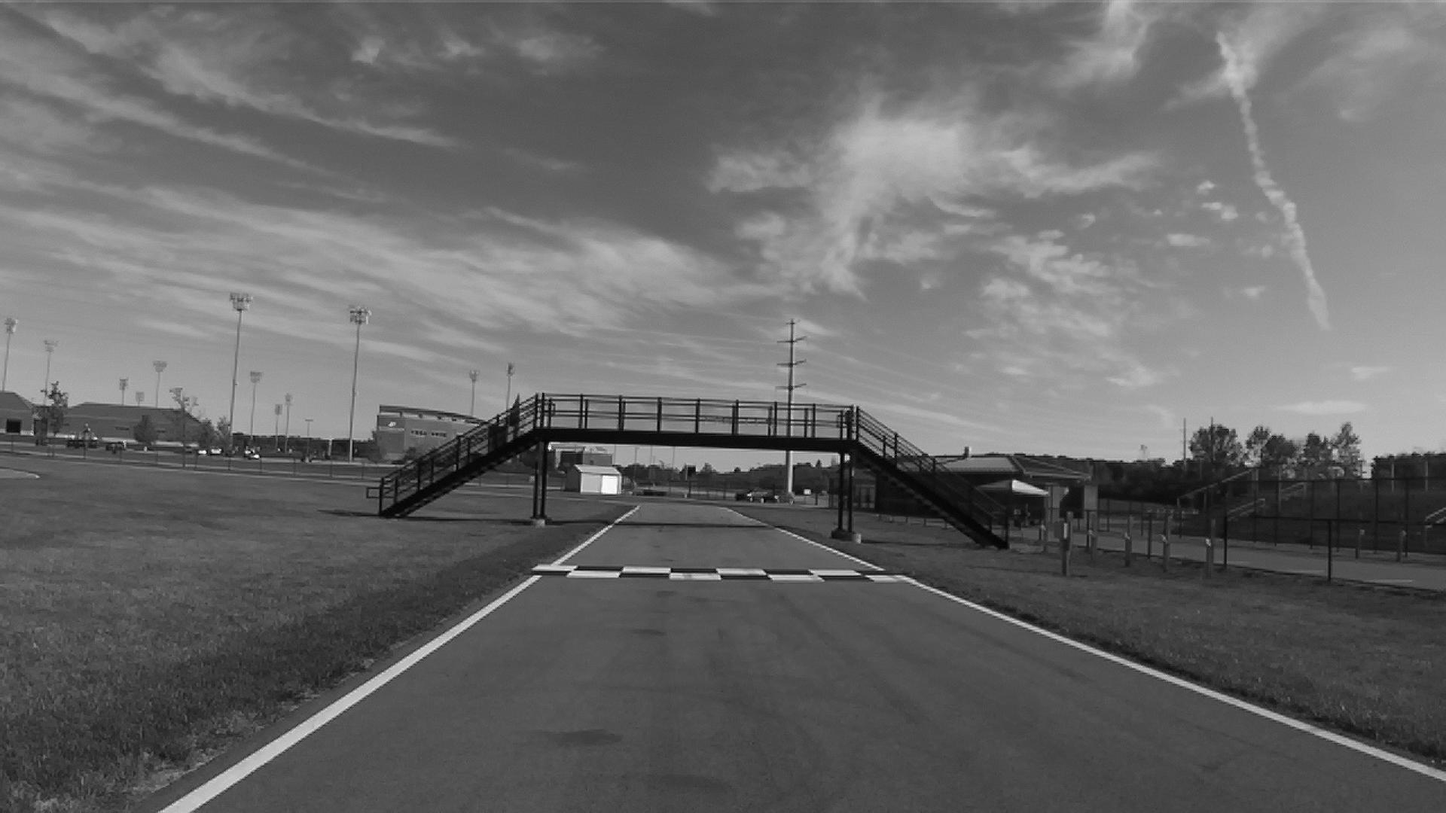white-line: (892, 575, 1445, 781), (159, 575, 540, 812), (550, 505, 642, 564), (775, 528, 885, 570)
